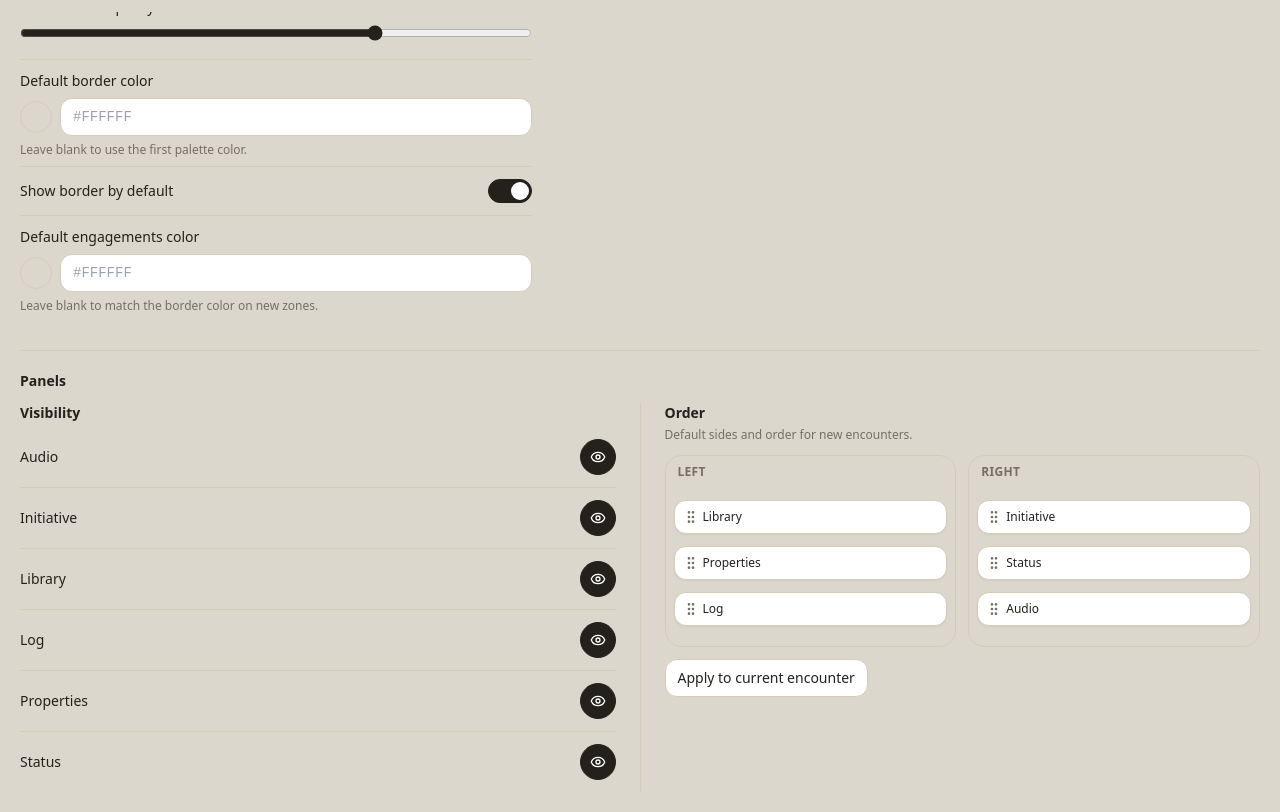
Test: InterfaceSettings › groups panel visibility under Panels and lists controls alphabetically
(page scrolled)
Click the switch named "Library panel visibility".
click(598, 579)  # box 580,561 -> 616,597
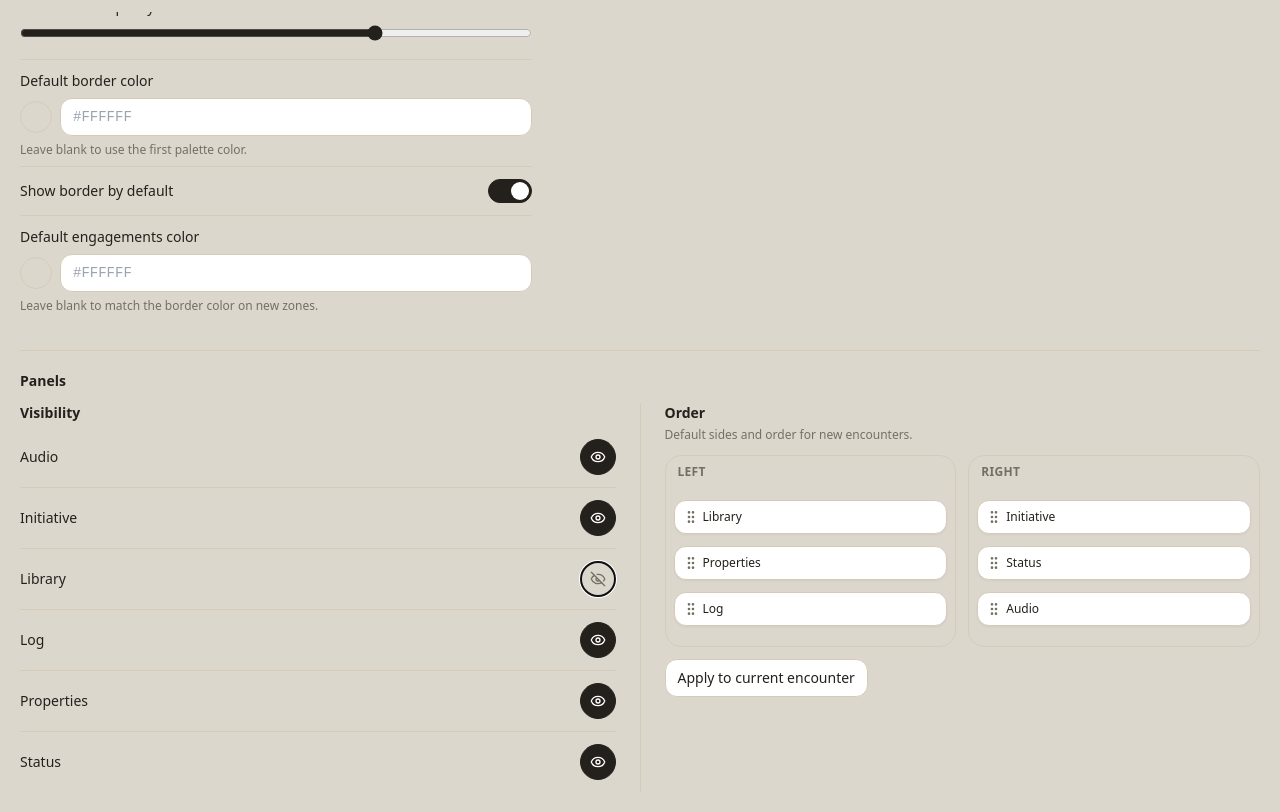
Result: the icon with class "lucide-eye-off" is shown at 590,571 -> 606,587
